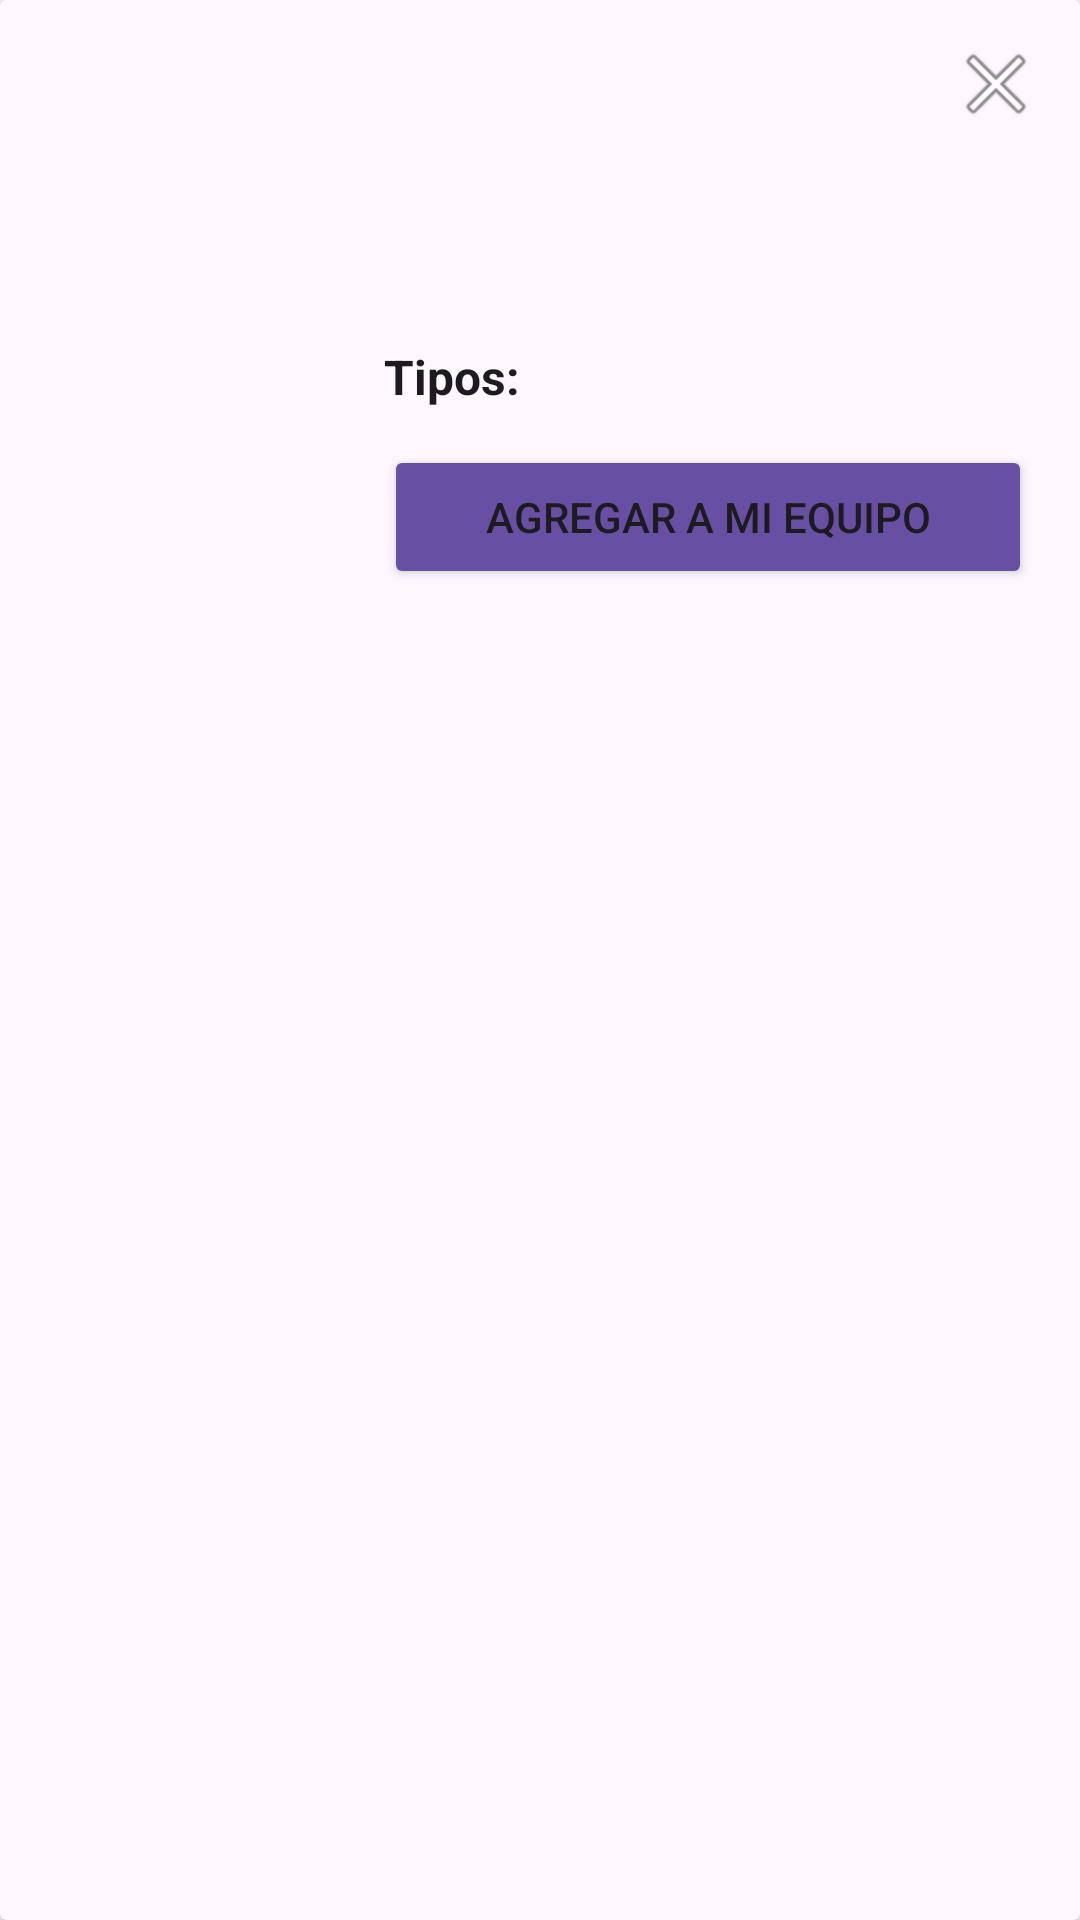

Icon bounding boxes for this 1080 x 1920 phone screenshot, format (x1, y1, x2, y2):
Cerrar: (966, 54, 1026, 114)
